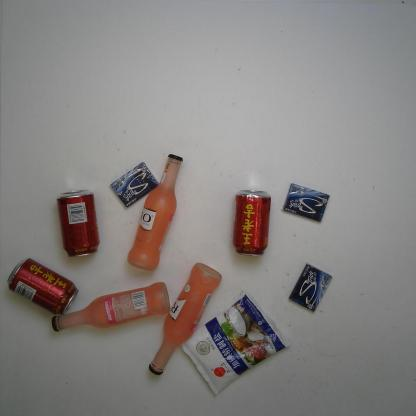Alcohol: (147, 262, 221, 378), (127, 154, 183, 271), (50, 280, 171, 333)
Drink: (5, 258, 79, 315), (56, 189, 98, 259), (232, 190, 272, 256)
Gum: (108, 160, 159, 209), (288, 262, 332, 313), (280, 183, 329, 222)
Seasoner: (180, 295, 291, 396)
